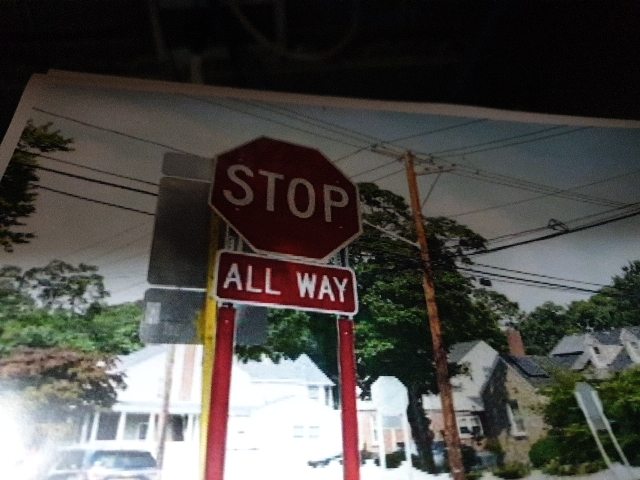stop: (214, 132, 374, 259)
